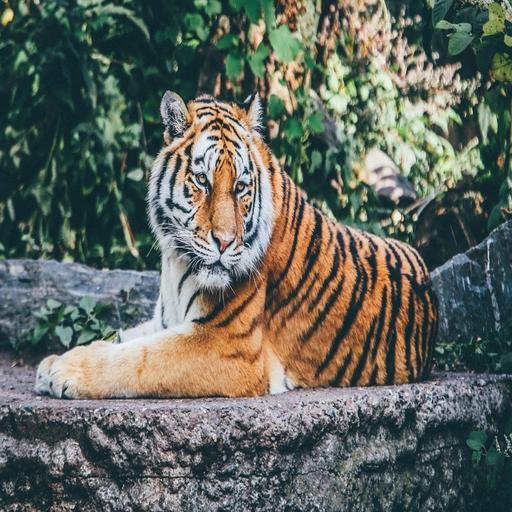Tiger: (18, 80, 453, 416)
